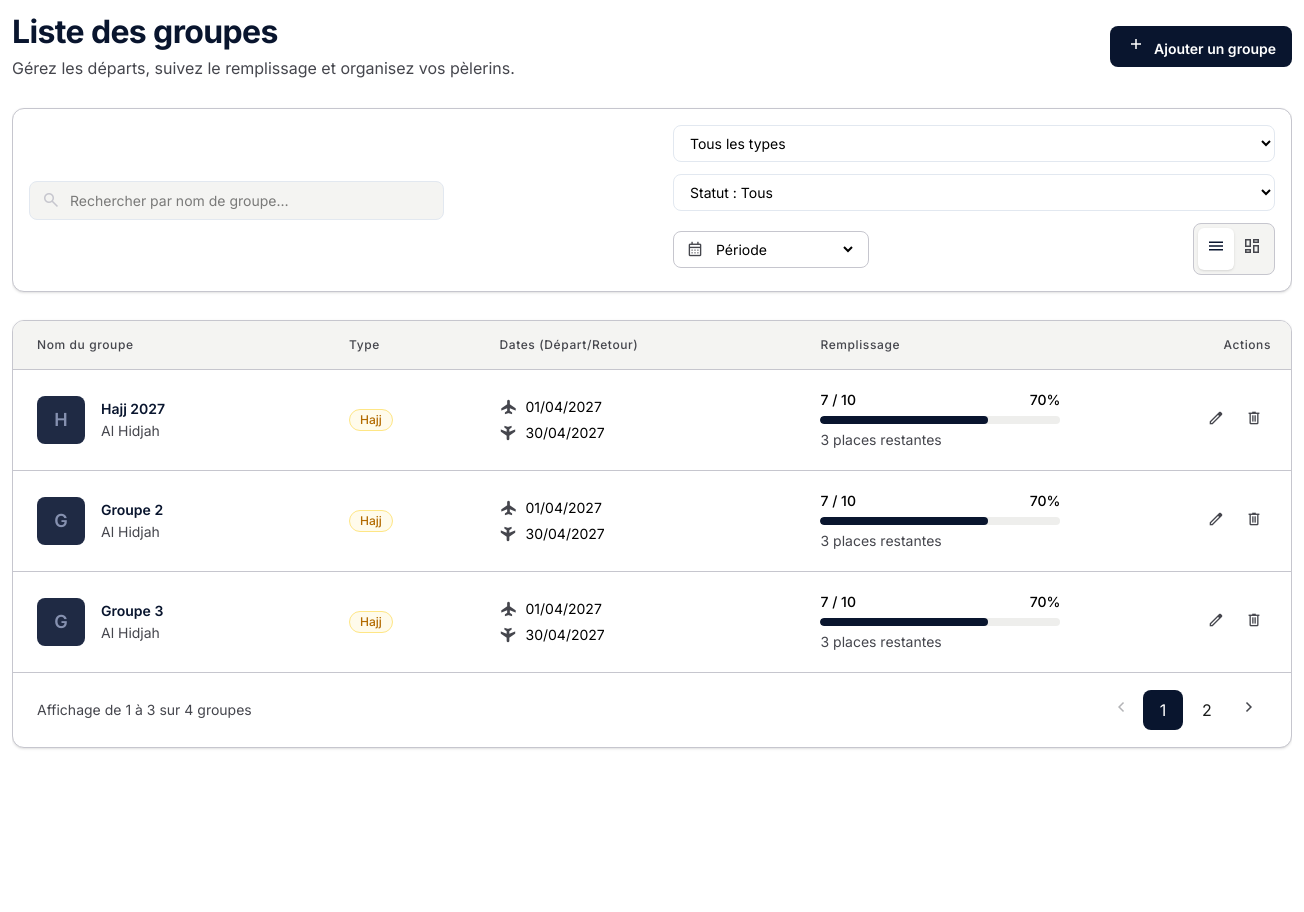
Groupes › permet de parcourir les groupes avec la pagination
Click the button named "Page 2".
click(1207, 710)  # box [1187,690,1227,730]
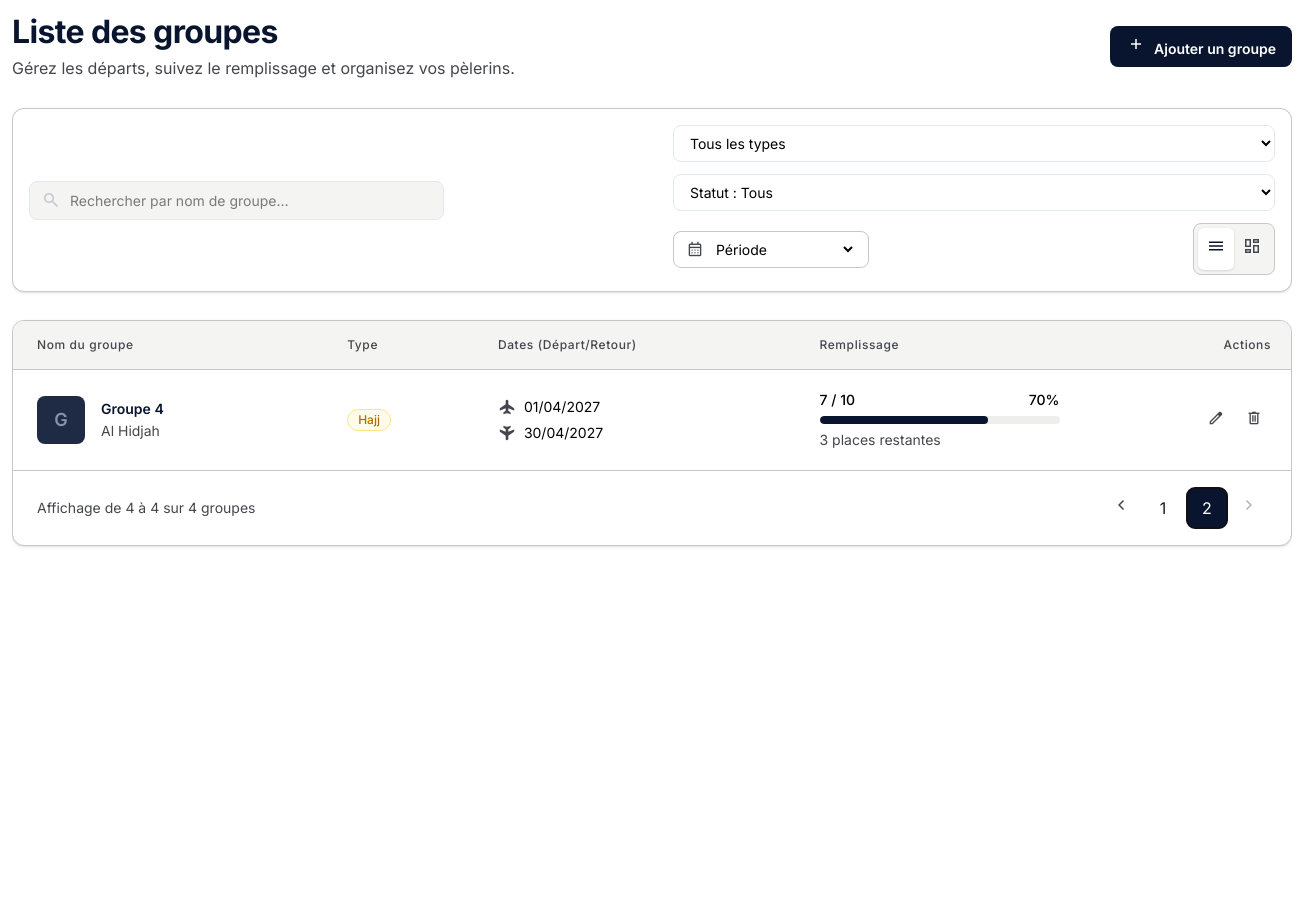
Check: no links "Hajj 2027" are shown
Check: the text "Affichage de 4 à 4 sur 4 groupes" is shown, box [37,498,256,518]
